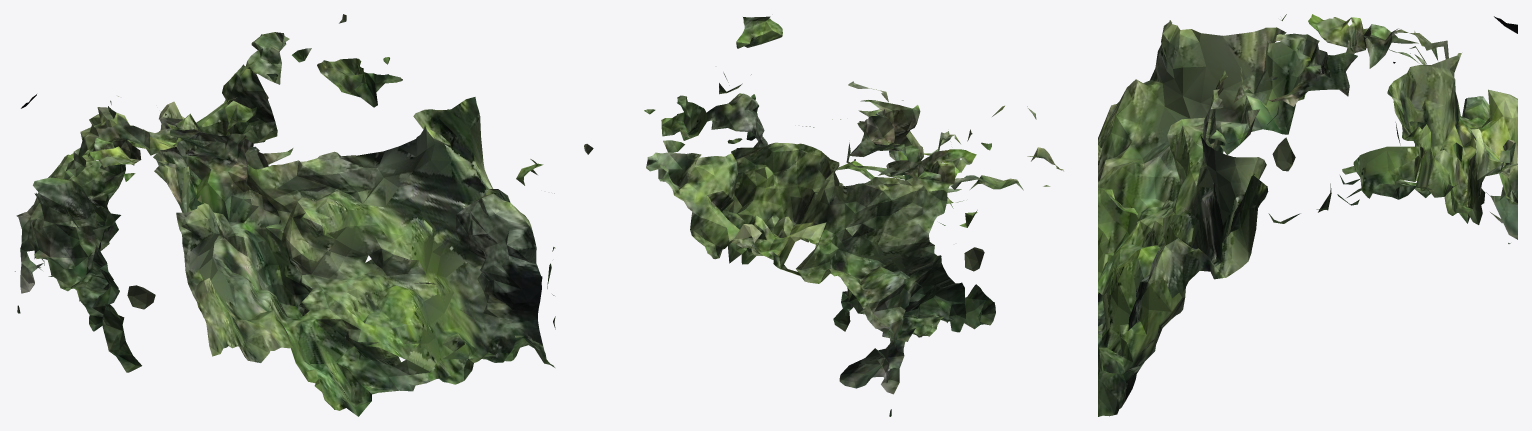
3 views of the same model, side by side, from view 1: azimuth 30°, elevation 25°; view 2: azimuth 150°, elevation 25°; view 3: azimuth 270°, elevation 25° (orthographic). The views are drawn at different scales.
Bounding box in the file's own units: 26.11 × 15.74 × 26.11.
4 materials, 4 textured.
